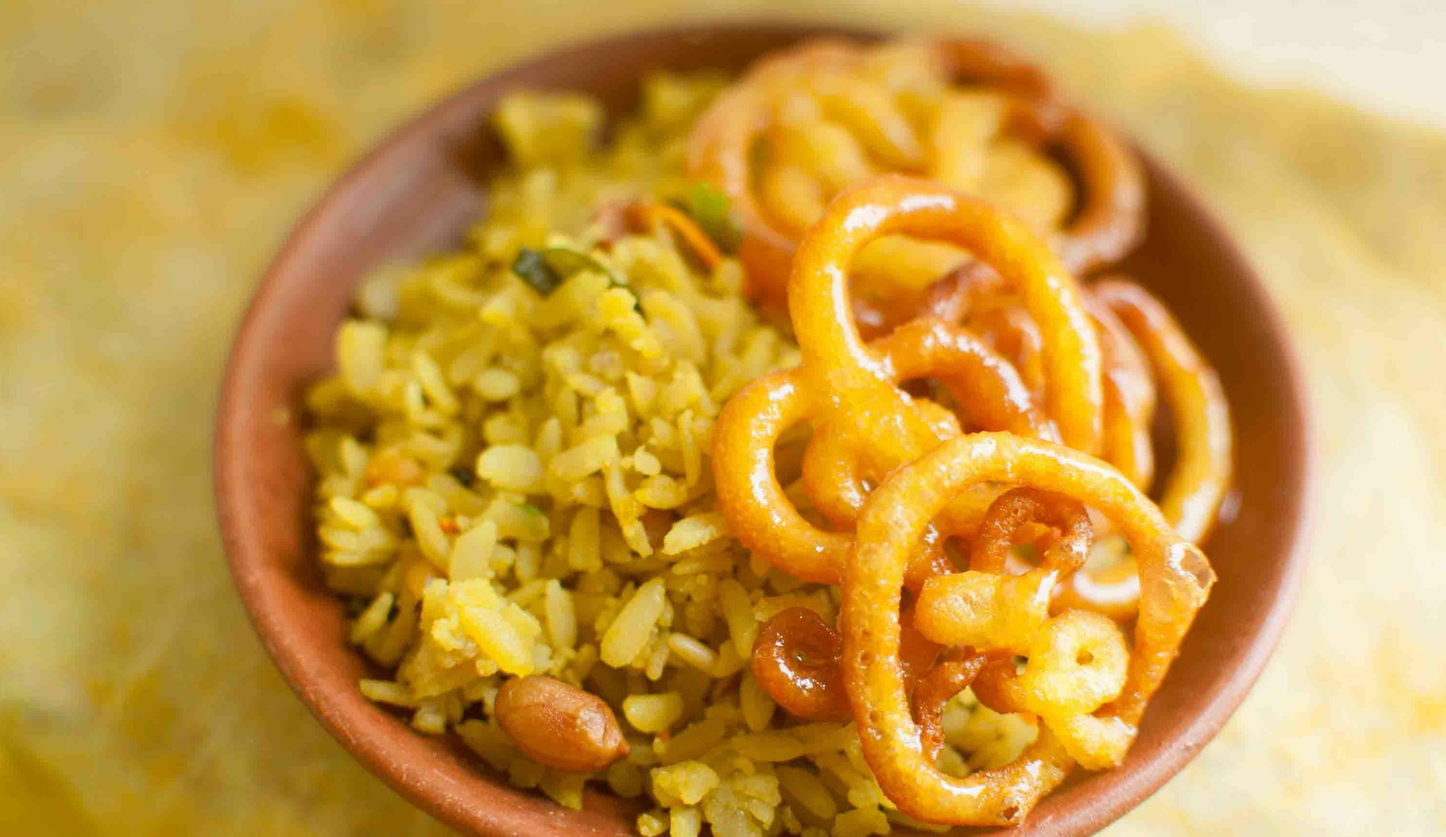Jalebi: (712, 178, 1216, 832), (683, 36, 1233, 615)
